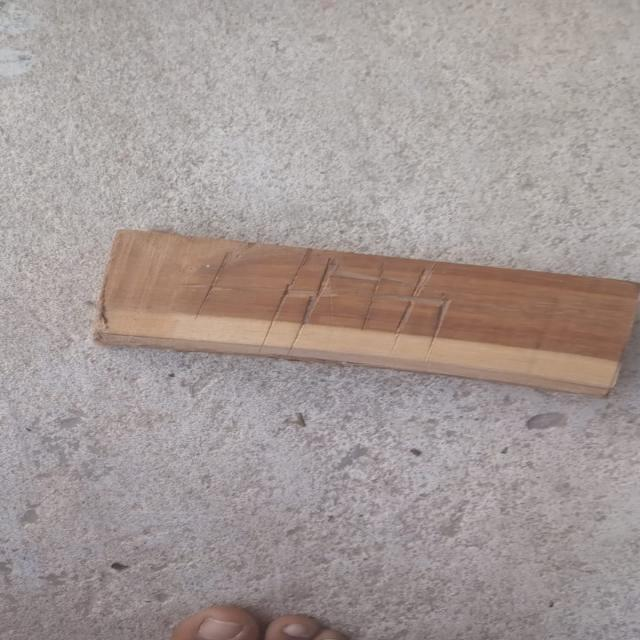wood: (95, 211, 640, 391)
